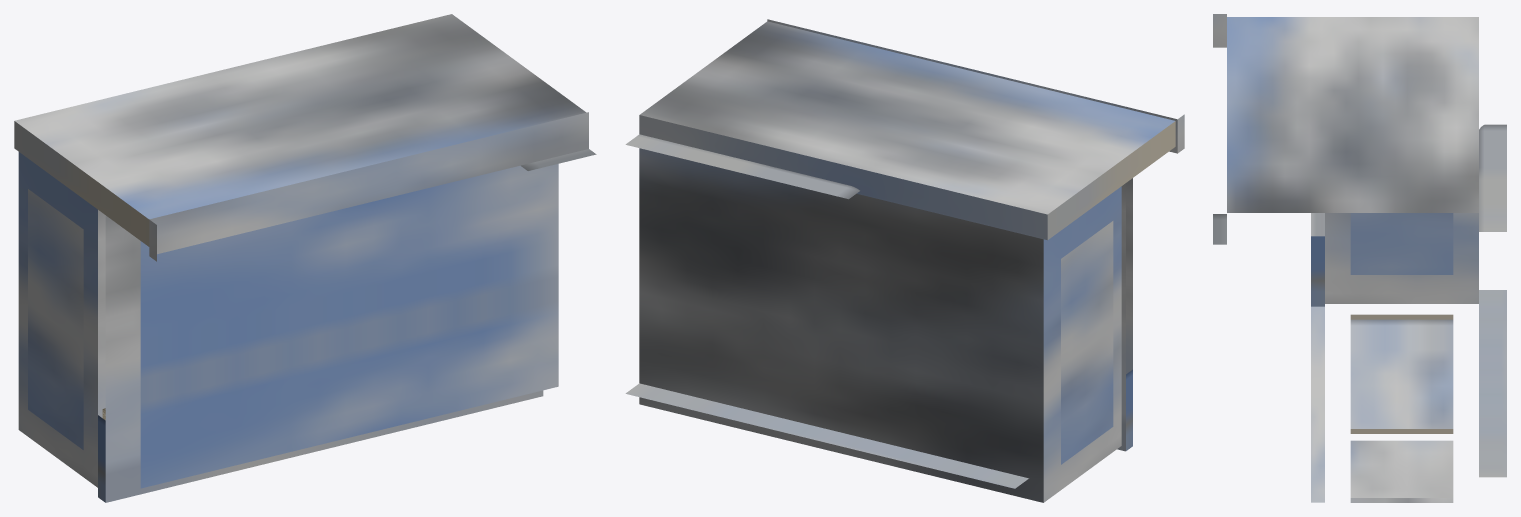
The model's file is section-2.obj.
The picture shows the model from 3 angles, left to right: view 1: azimuth 30°, elevation 25°; view 2: azimuth 150°, elevation 25°; view 3: azimuth 270°, elevation 25°; orthographic projection. The views are drawn at different scales.
Bounding box in the file's own units: 1 × 0.691 × 0.63.
